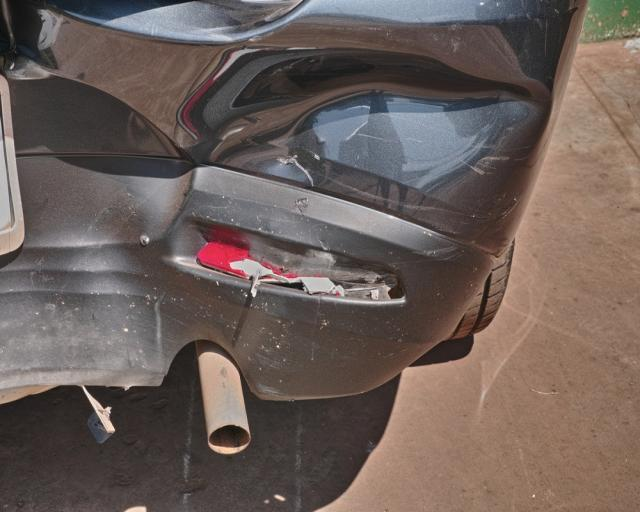dent: (187, 48, 552, 175), (70, 210, 184, 384)
